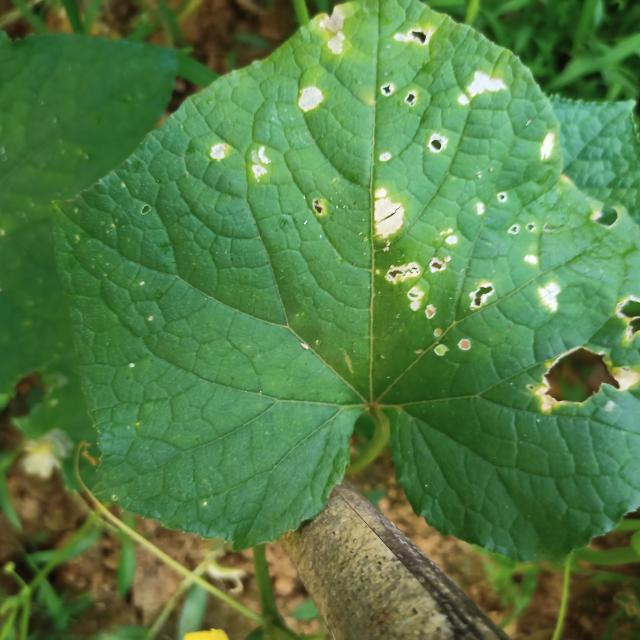disease_cucumber: (384, 248, 498, 362), (529, 341, 640, 416), (207, 140, 275, 186), (454, 68, 509, 112), (367, 186, 408, 245), (528, 277, 566, 320), (319, 8, 351, 58), (611, 292, 640, 346), (375, 80, 423, 112), (390, 26, 439, 49), (292, 84, 328, 115), (535, 127, 556, 169), (424, 132, 451, 156)
